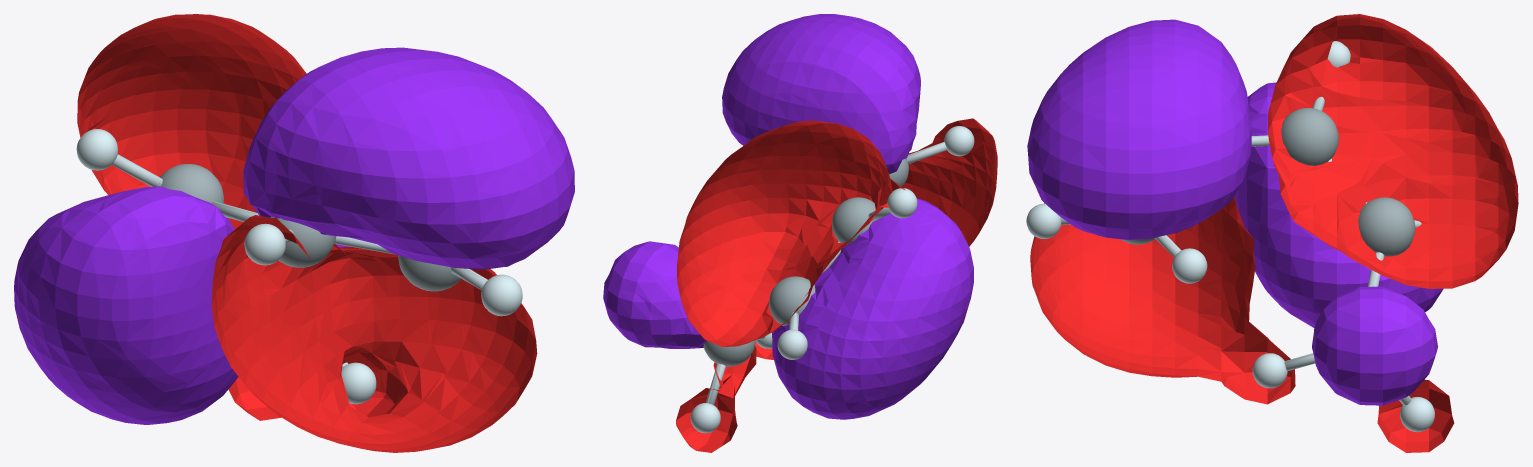
The picture shows the model from 3 angles, left to right: view 1: azimuth 30°, elevation 25°; view 2: azimuth 150°, elevation 25°; view 3: azimuth 270°, elevation 25°; orthographic projection. The views are drawn at different scales.
Parts seen in each view (by area): view 1: Renderer Node; view 2: Renderer Node; view 3: Renderer Node.
Boxes of the visible parts, box(x1,y1,x2,y2) form: Renderer Node: box(14, 14, 574, 452); Renderer Node: box(603, 14, 997, 452); Renderer Node: box(1026, 14, 1518, 452).
Size of the model in its own units: 4.94 by 5.02 by 5.57.
